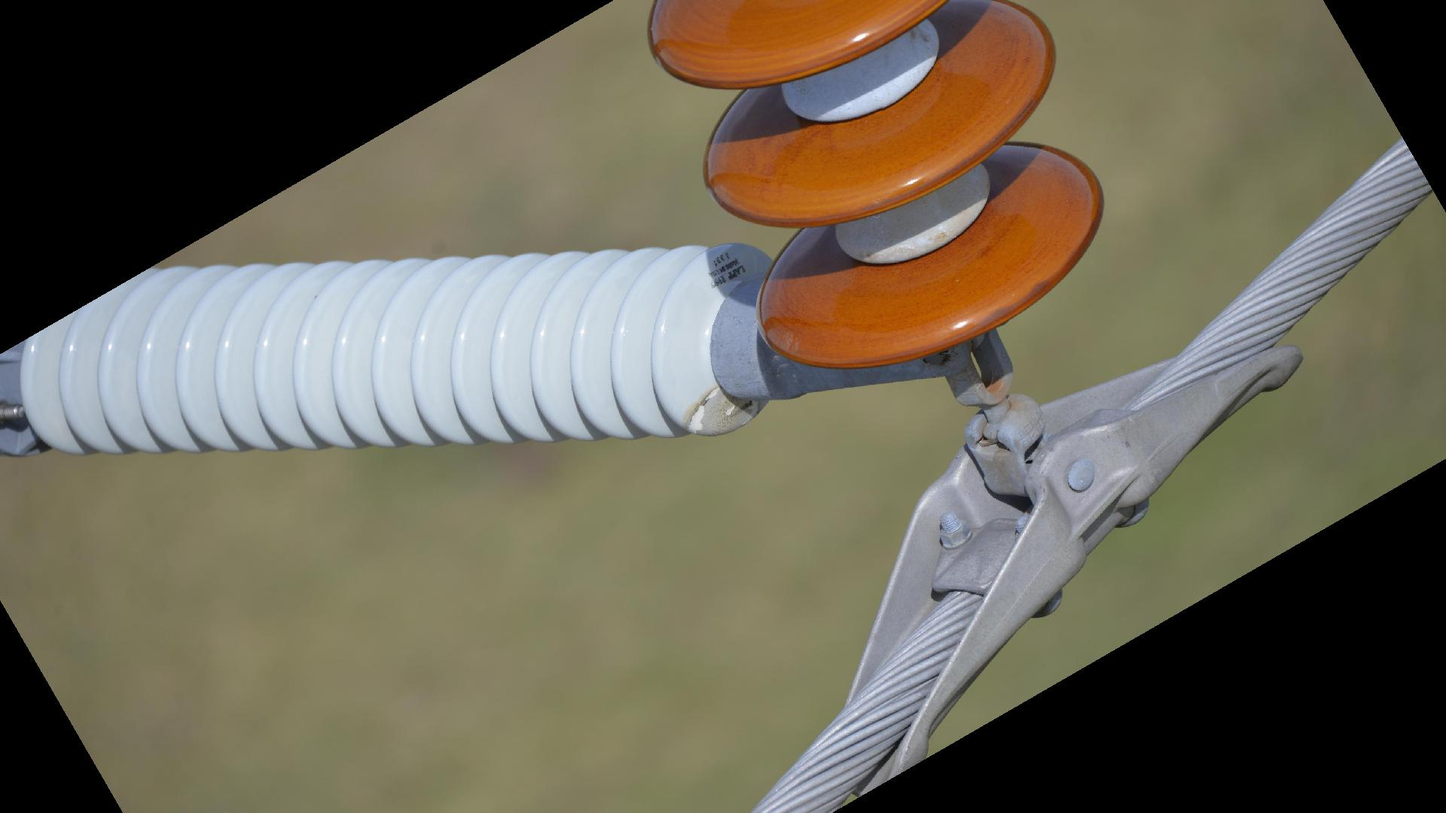insulator: (16, 236, 779, 464), (642, 1, 1109, 373)
insulator_flashover: (679, 384, 764, 439)
